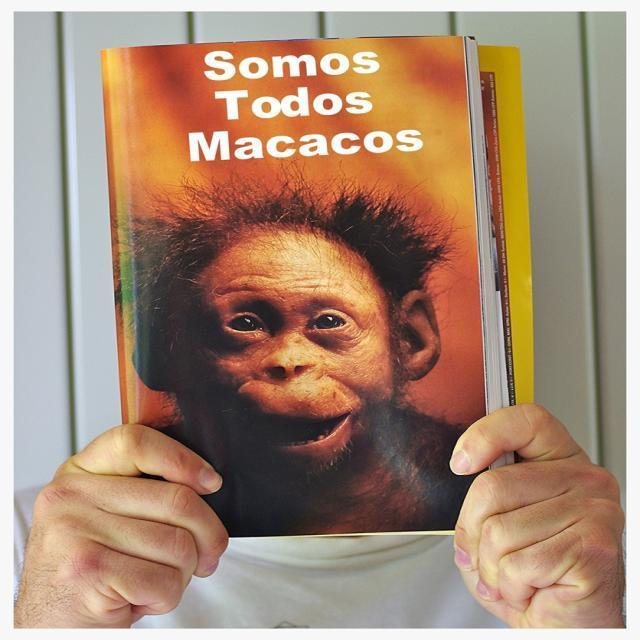book: (106, 33, 493, 541)
